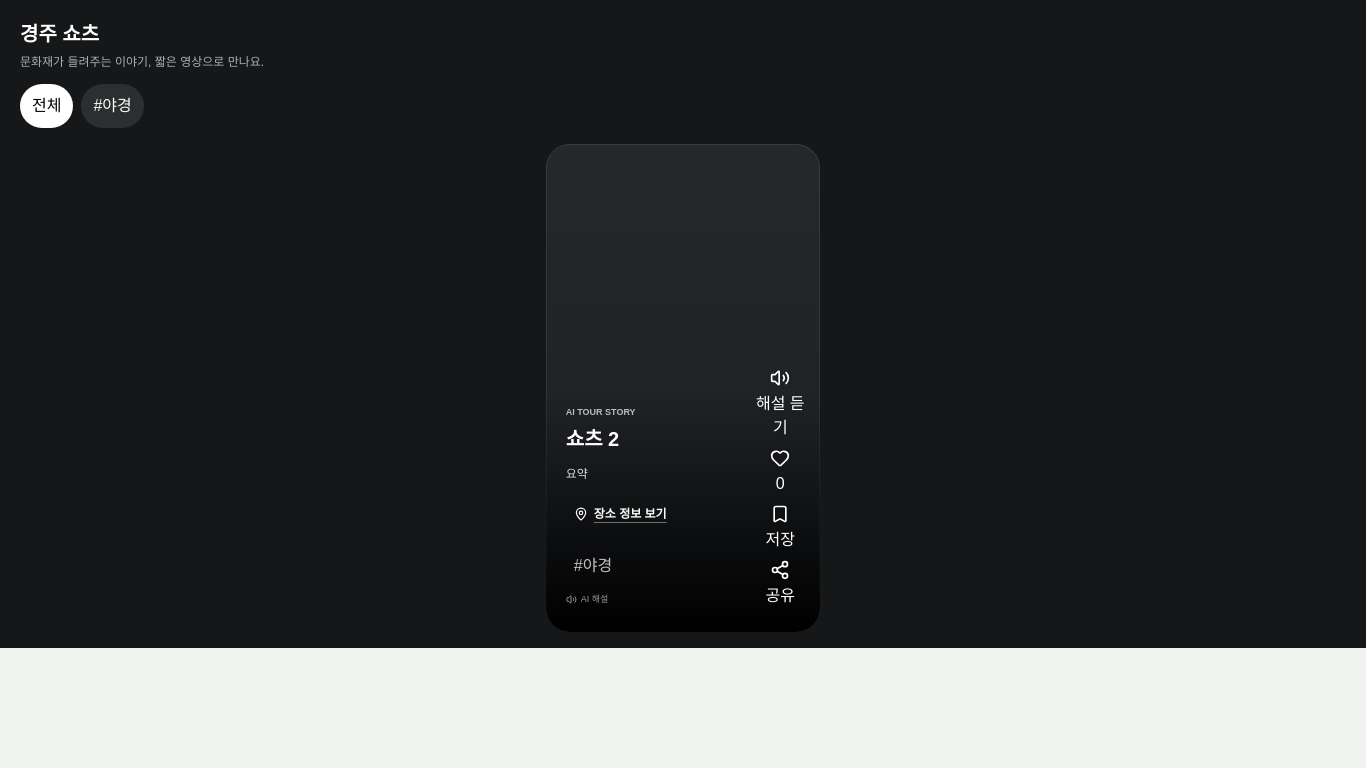
it: ShortsScreen viewport playback › keeps narration available for image stories and explicitly supplied video audio
(page scrolled)
Expected: the heading "쇼츠 2" is shown, x1=566 y1=428 x2=619 y2=450
Click the button "해설 듣기" at (780, 404), box x1=752 y1=368 x2=808 y2=440
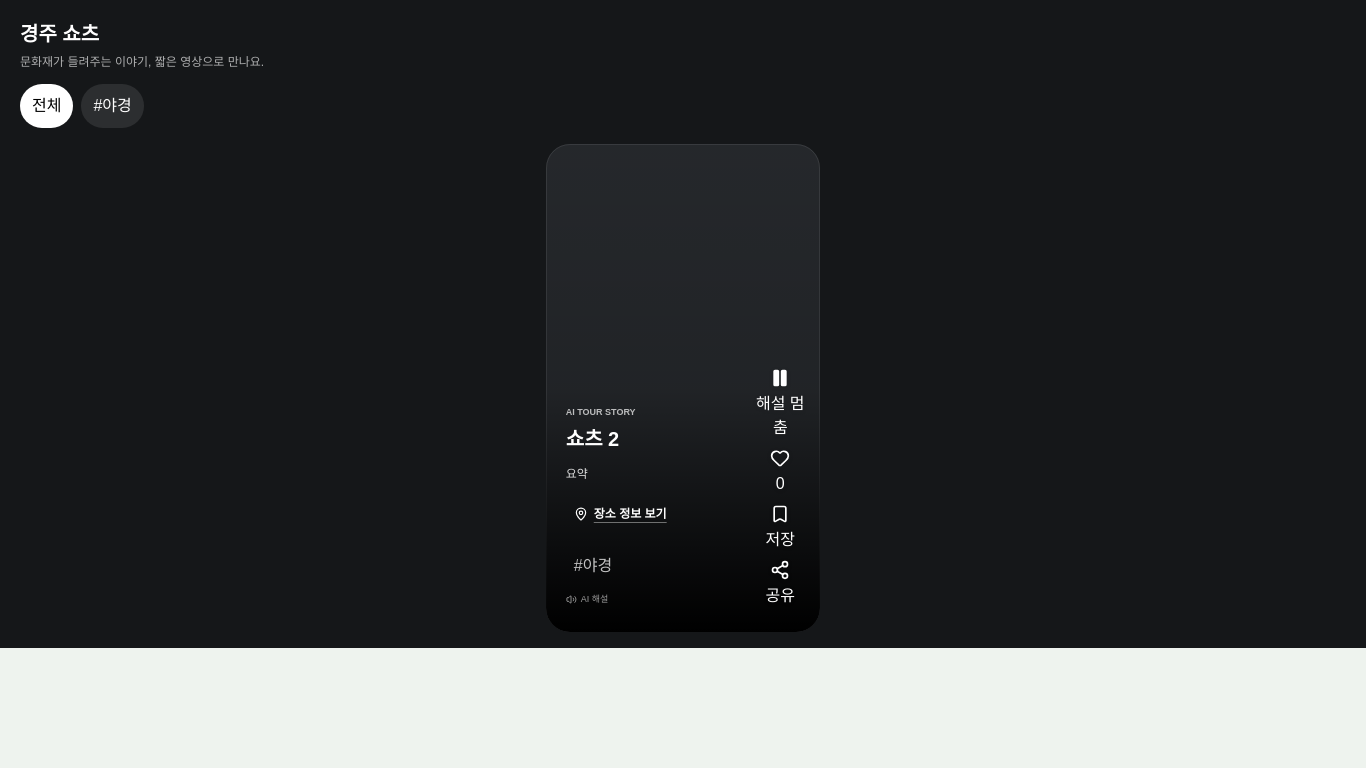
Expected: the button "해설 멈춤" is shown, x1=752 y1=368 x2=808 y2=440
